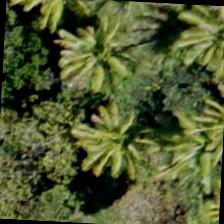Kelapa_Sawit: (66, 86, 162, 180), (51, 2, 146, 96), (22, 86, 116, 180), (170, 91, 223, 185)
